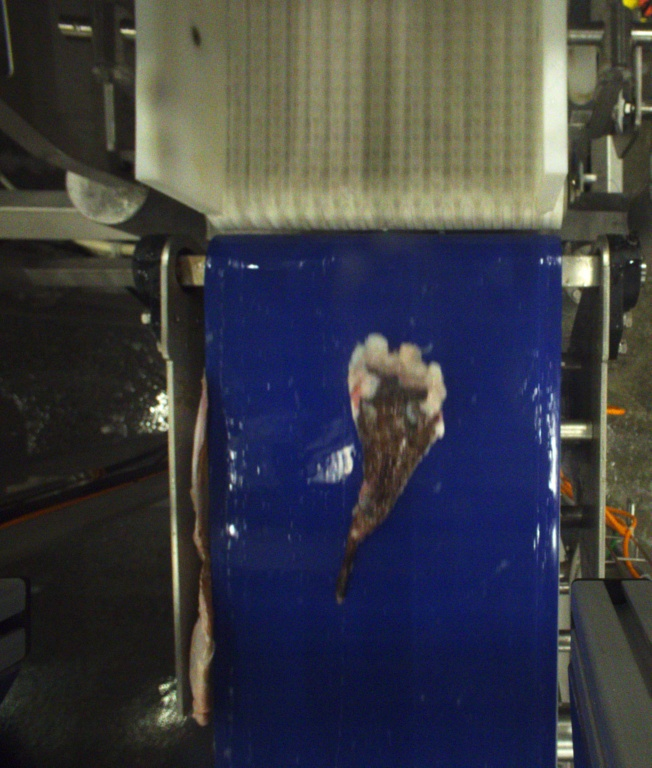ANF: (336, 333, 447, 602)
